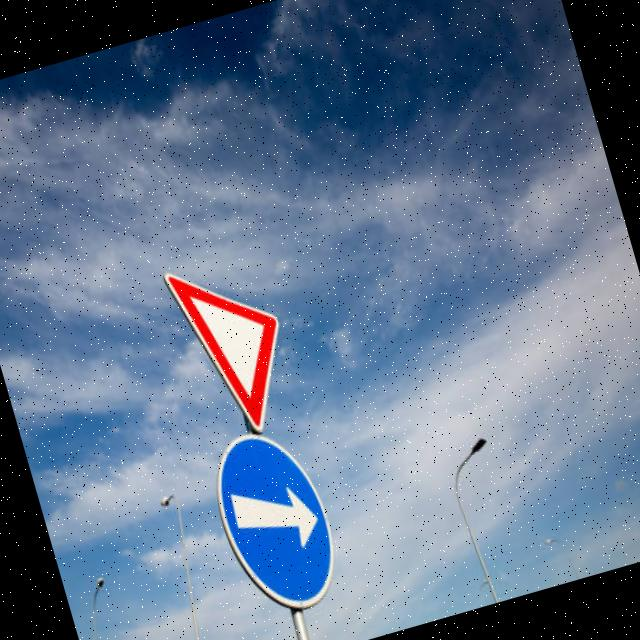give_way: (148, 234, 314, 449)
